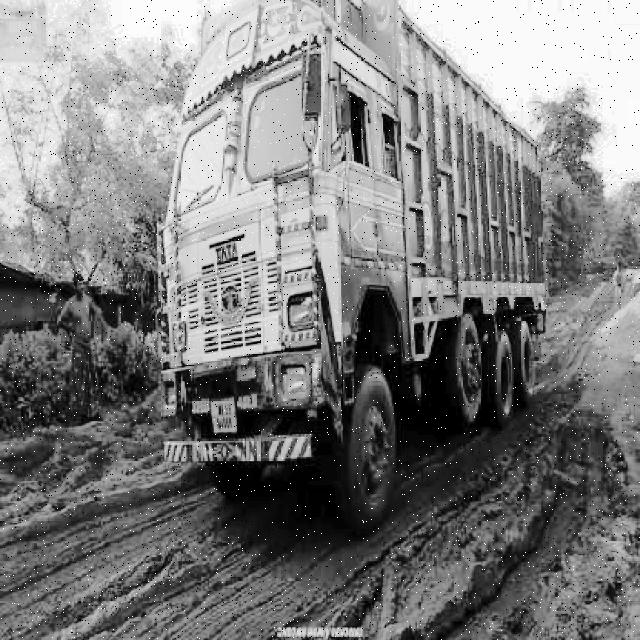HCV: (177, 24, 561, 503)
